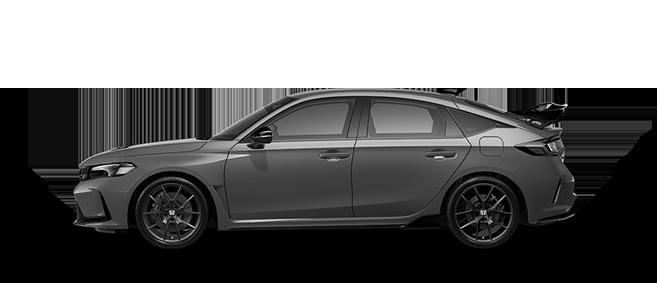Car hood: (93, 138, 206, 158)
Fender - -F-L-: (112, 140, 235, 230)
Front bumper: (71, 168, 151, 233)
Headlight - -L-: (76, 162, 139, 181)
Passenger-s door - -F-L-: (223, 87, 367, 235)
Passenger-s door - -R-L-: (348, 83, 473, 236)
Rear bumper: (510, 156, 580, 230)
Rear light - -L-: (512, 131, 567, 159)
Side bumper - -L-: (216, 205, 443, 240)
Side mirror - -L-: (247, 124, 273, 150)
